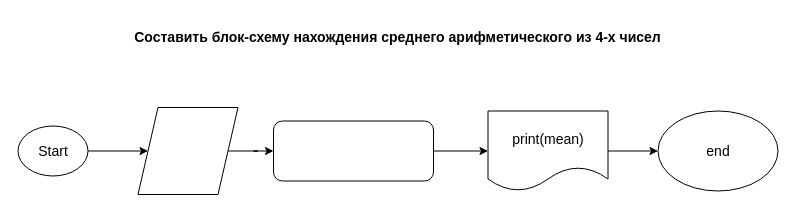
The diagram is 795 pixels wide and 212 high, and some of its shapes have lost their labels. The centre of each missing label's shape, as x and y in pixels:
"a=1 b=2 c=3 d=4" goes at point 187,150.
"arr=[a,b,c,d] mean=sum(arr)/len(arr)" goes at point 353,150.
